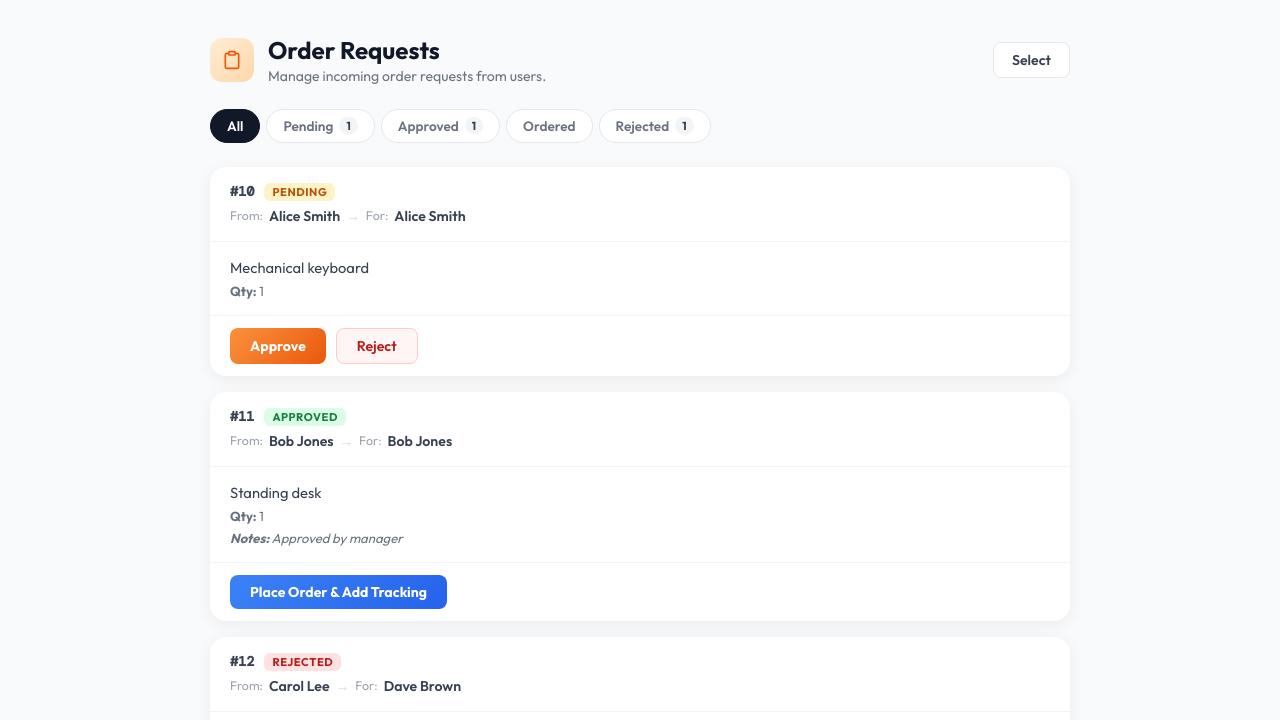
Test: Approve flow › clicking Approve opens the Approve modal
Click the button "Approve" at (278, 346), box [230,328,326,364]
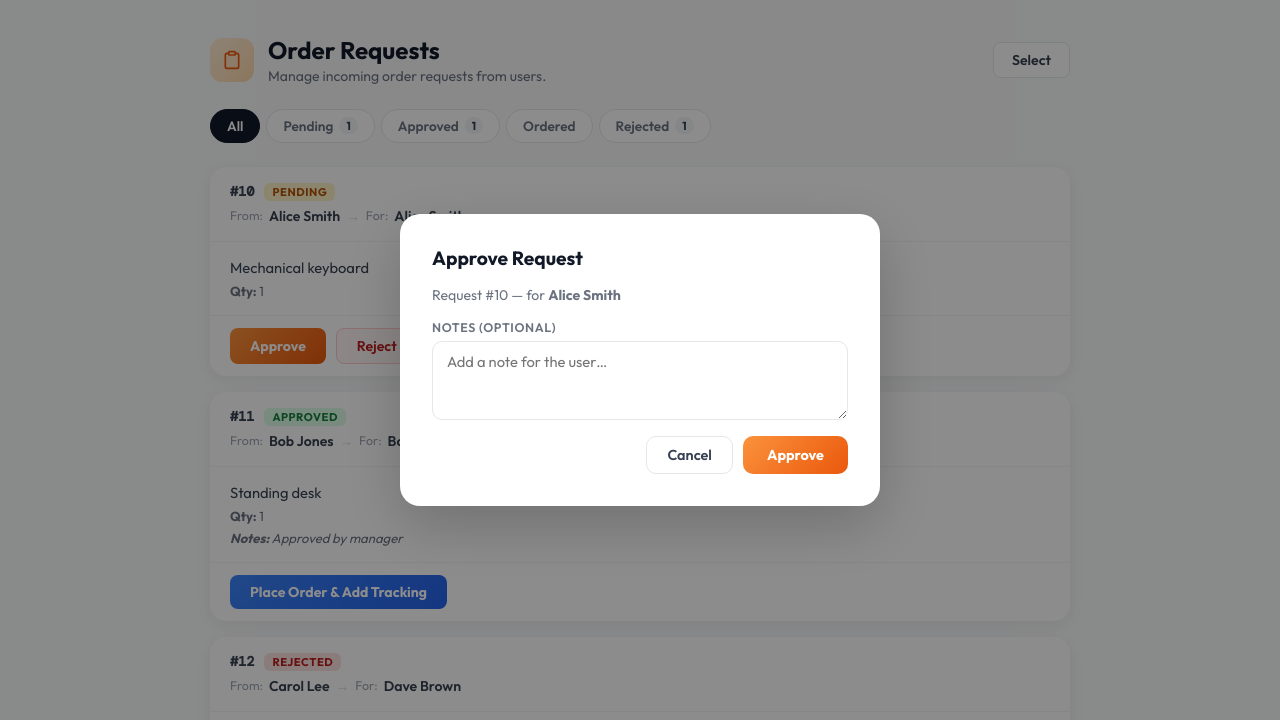
Expected: the heading "Approve Request" is shown, [432,246,583,270]
Expected: the text box with placeholder "Add a note for the user…" is shown, [432,341,848,420]
